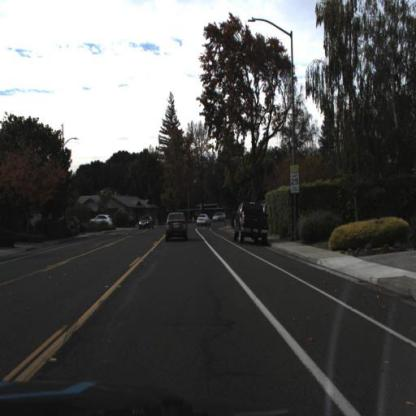car: (238, 203, 274, 252), (167, 212, 192, 243), (136, 213, 154, 231), (99, 217, 120, 231), (195, 213, 211, 229)
